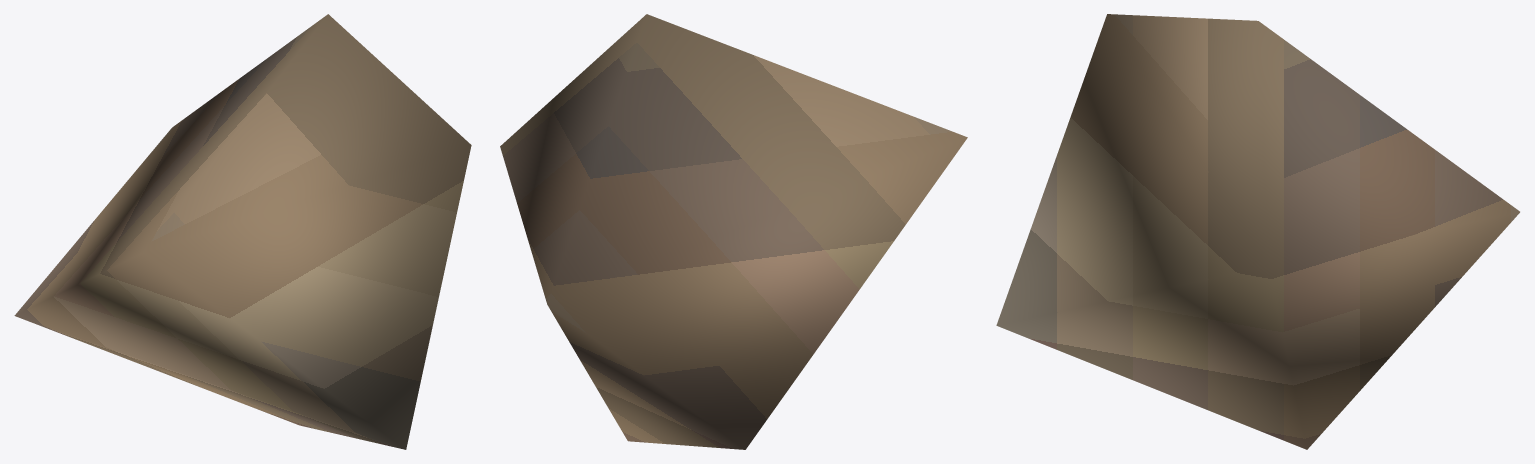
The model's file is DrillRock1_Anim.glb.
3 renders of one model, left to right at view 1: azimuth 30°, elevation 25°; view 2: azimuth 150°, elevation 25°; view 3: azimuth 270°, elevation 25°, orthographic. The views are drawn at different scales.
Visible parts, largest first — view 1: DrillRock1_Anim; view 2: DrillRock1_Anim; view 3: DrillRock1_Anim.
Boxes of the visible parts, left/top/right/bottom form: DrillRock1_Anim: left=14, top=14, right=471, bottom=449; DrillRock1_Anim: left=500, top=14, right=967, bottom=449; DrillRock1_Anim: left=996, top=14, right=1519, bottom=449.
Size of the model in its own units: 2.68 by 2.68 by 2.95.
Materials: 1 (1 with a texture image).
